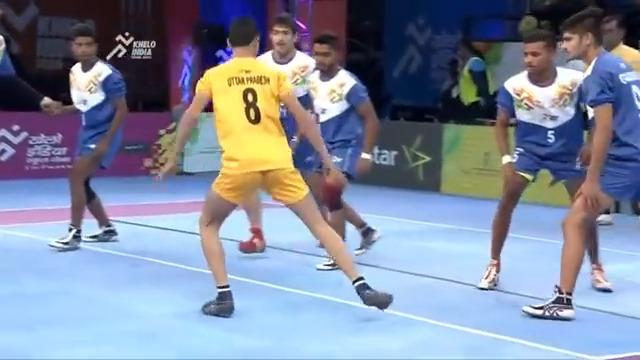Player: (476, 17, 614, 294), (295, 32, 381, 269)
Raider: (153, 16, 394, 318)
referee: (0, 34, 63, 113)
